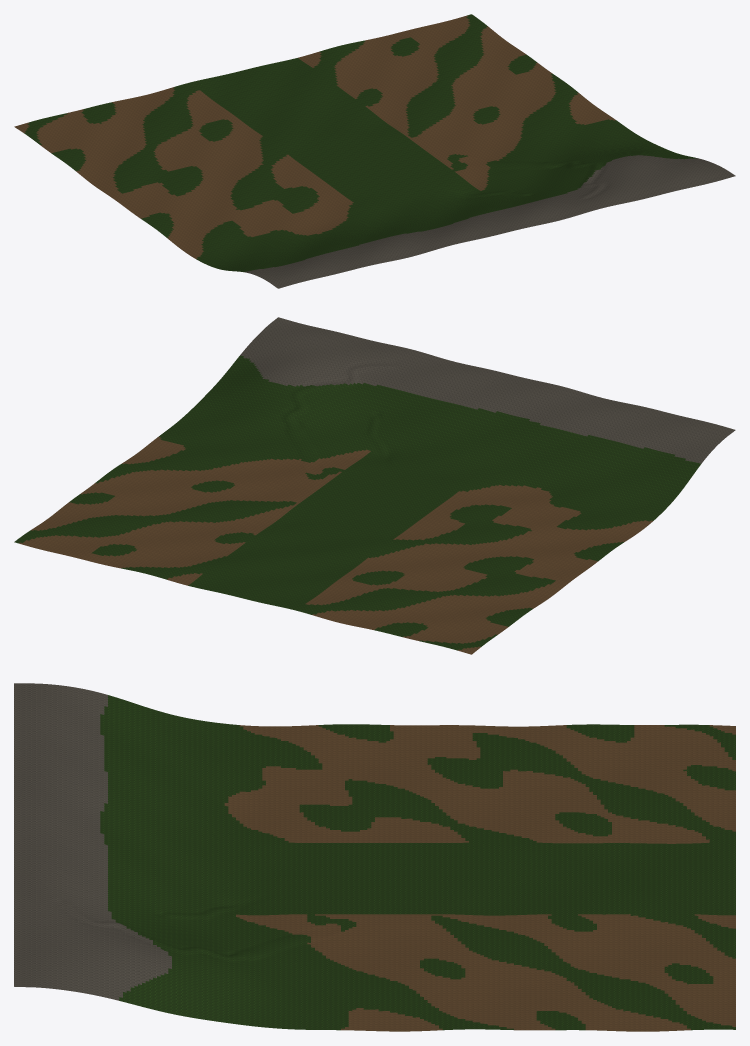
File: terrain.glb
3 renders of one model, top to bottom at view 1: azimuth 30°, elevation 25°; view 2: azimuth 150°, elevation 25°; view 3: azimuth 270°, elevation 25°, orthographic. The views are drawn at different scales.
Visible parts, largest first — view 1: terrain_grass, terrain_dirt, terrain_rock; view 2: terrain_grass, terrain_dirt, terrain_rock; view 3: terrain_grass, terrain_dirt, terrain_rock.
Boxes of the visible parts, x1,y1,x2,y2 form: terrain_grass: (24, 14, 696, 272); terrain_dirt: (14, 15, 615, 258); terrain_rock: (244, 155, 735, 288); terrain_grass: (14, 355, 701, 650); terrain_dirt: (19, 436, 652, 654); terrain_rock: (240, 317, 735, 463); terrain_grass: (100, 695, 735, 1030); terrain_dirt: (224, 725, 735, 1031); terrain_rock: (14, 683, 171, 1000).
Size of the model in its own units: 3600 by 255 by 3600.
3 materials, 3 textured.
